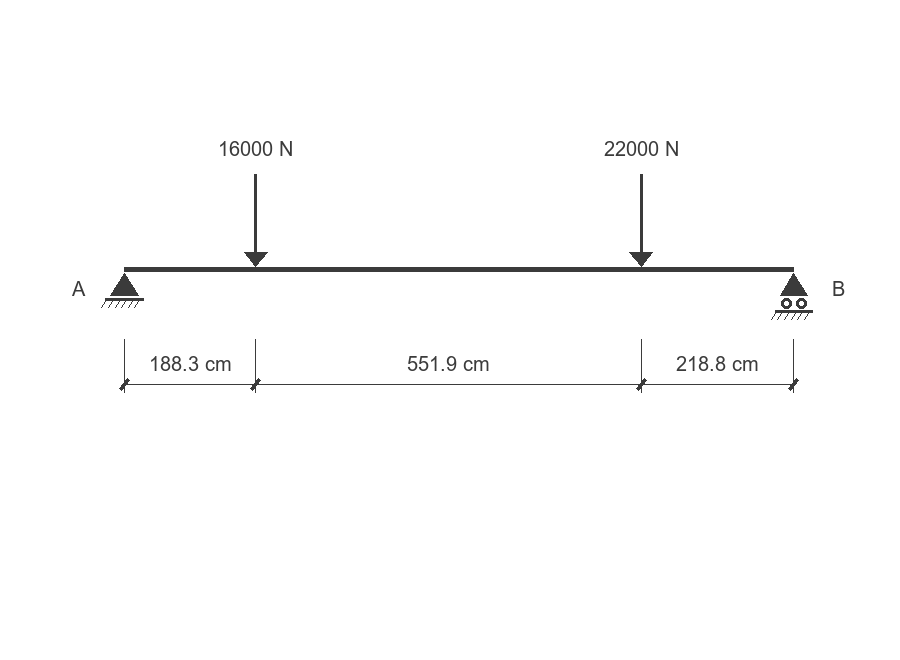pin_support: (101, 273, 144, 308)
point_load: (244, 174, 268, 267), (629, 174, 653, 267)
roller_support: (771, 273, 813, 320)
